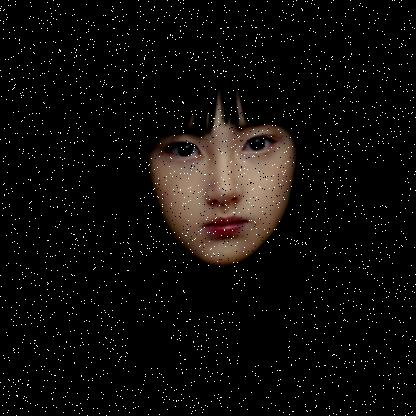Female: (139, 78, 297, 274)
